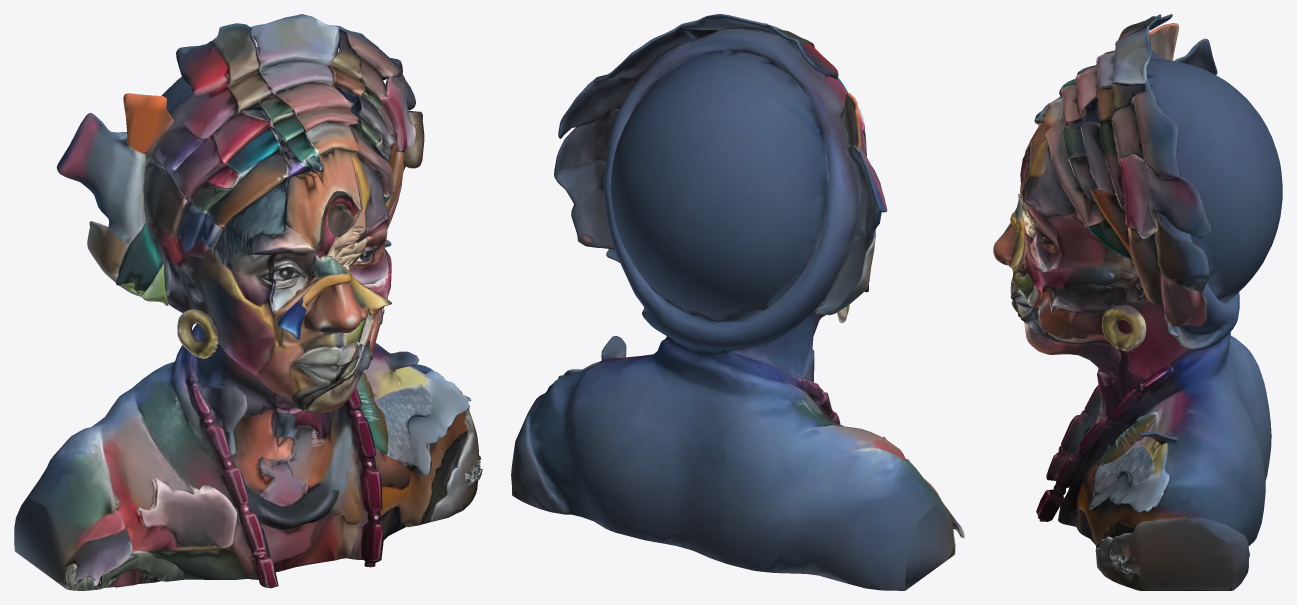
Rendered from tresor-portrait-cubiste.glb.
3 views of the same model, side by side, from view 1: azimuth 30°, elevation 25°; view 2: azimuth 150°, elevation 25°; view 3: azimuth 270°, elevation 25° (orthographic). The views are drawn at different scales.
Visible parts, largest first — view 1: tripo_node_14d133b5-c703-426f-bbb8-a77c5e5405ab; view 2: tripo_node_14d133b5-c703-426f-bbb8-a77c5e5405ab; view 3: tripo_node_14d133b5-c703-426f-bbb8-a77c5e5405ab.
Part boxes in pixels (x1,y1,x2,y2): tripo_node_14d133b5-c703-426f-bbb8-a77c5e5405ab: (14, 14, 482, 590); tripo_node_14d133b5-c703-426f-bbb8-a77c5e5405ab: (511, 14, 964, 590); tripo_node_14d133b5-c703-426f-bbb8-a77c5e5405ab: (993, 14, 1282, 590).
Size of the model in its own units: 0.8268 by 0.9787 by 0.5464.
Materials: 1 (1 with a texture image).
